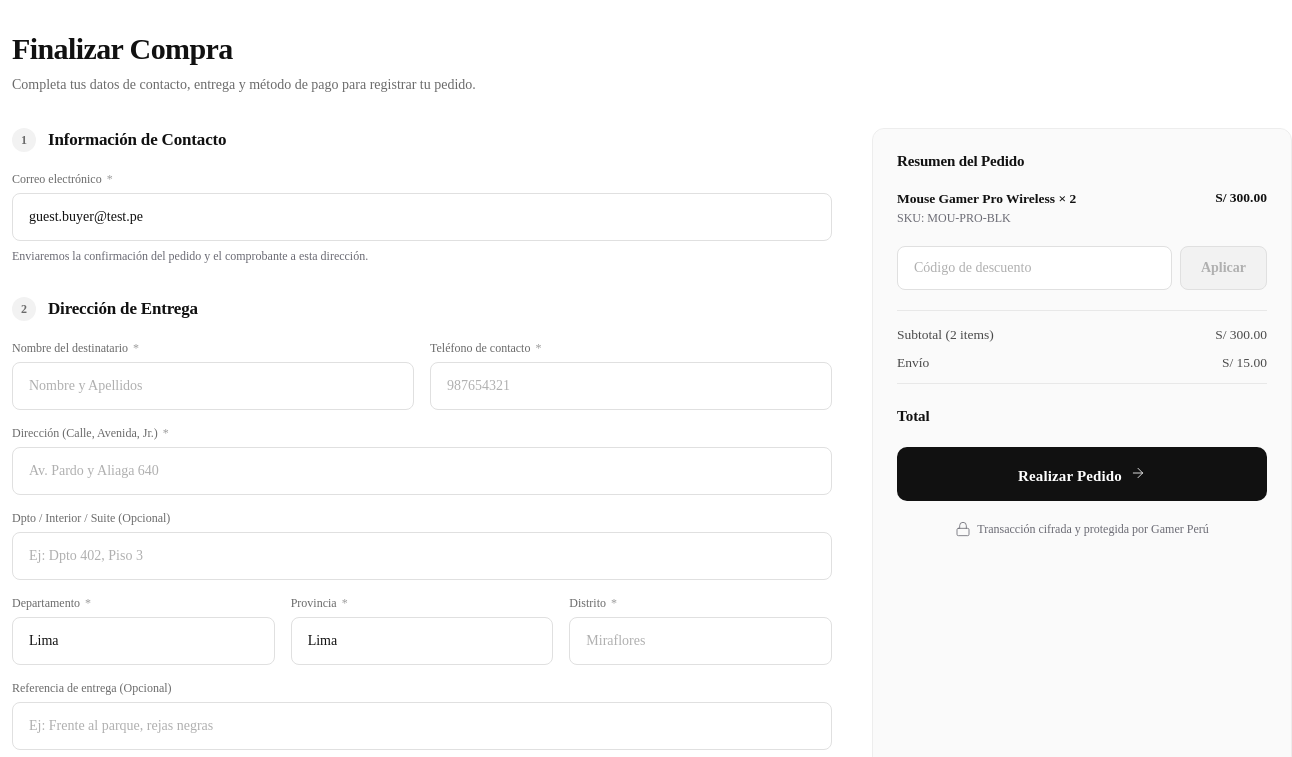
Test case: GP-018 / CHK6-BR3 — Explicit Selection & Fail-Closed Checkout Suite › 9. Idempotency & Address Recoveries › recovers safely from IDEMPOTENCY_EXPIRED by resetting attempt ID without auto-submitting
The width and height of the screenshot is (1292, 757).
Type "Maria Quispe" into the field with test id "checkout-input-recipient-name". click: (213,386)
box: [12,362,414,410]
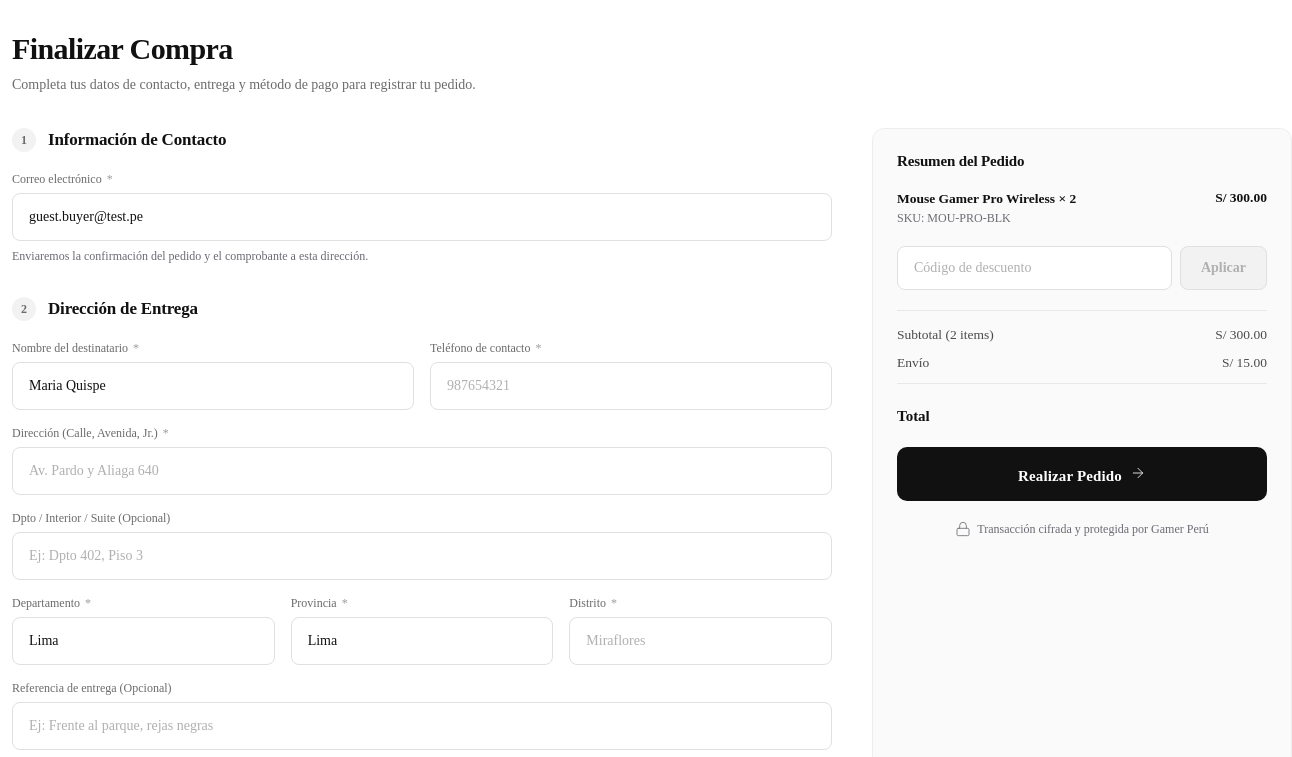
Type "998877665" into the field with test id "checkout-input-phone". click: (631,386)
box: [430,362,832,410]
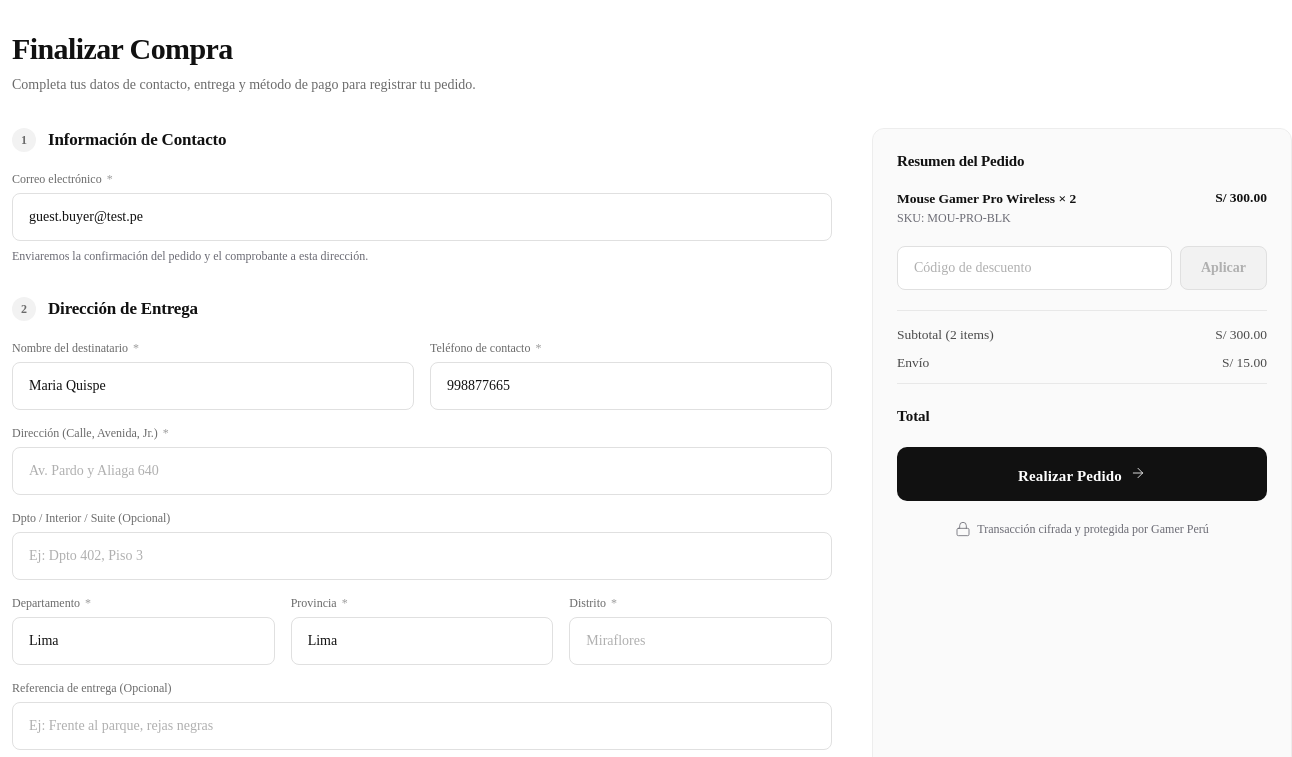
Type "Jr. Union 100" into the field with test id "checkout-input-street-address". click: (422,471)
box: [12,447,832,495]
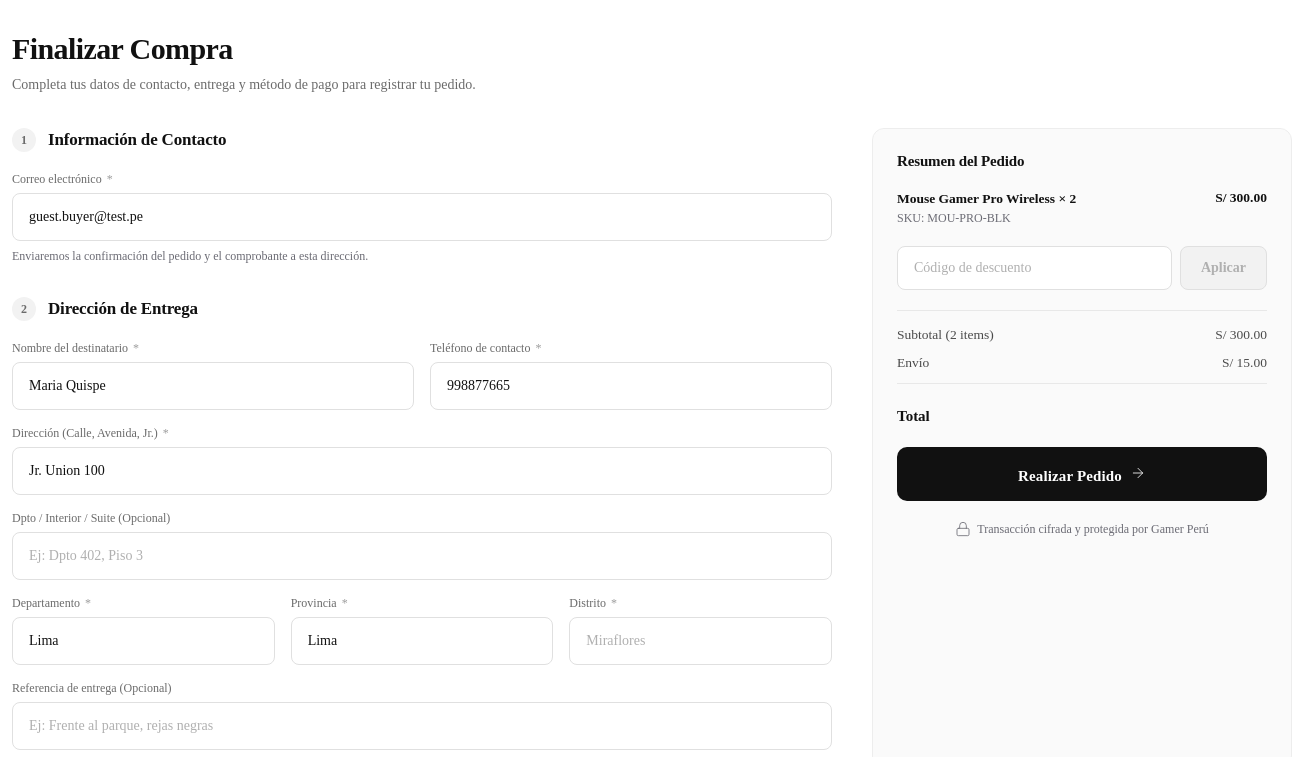
Type "Cercado de Lima" into the field with test id "checkout-input-district". click: (701,641)
box: [569,617,832,665]
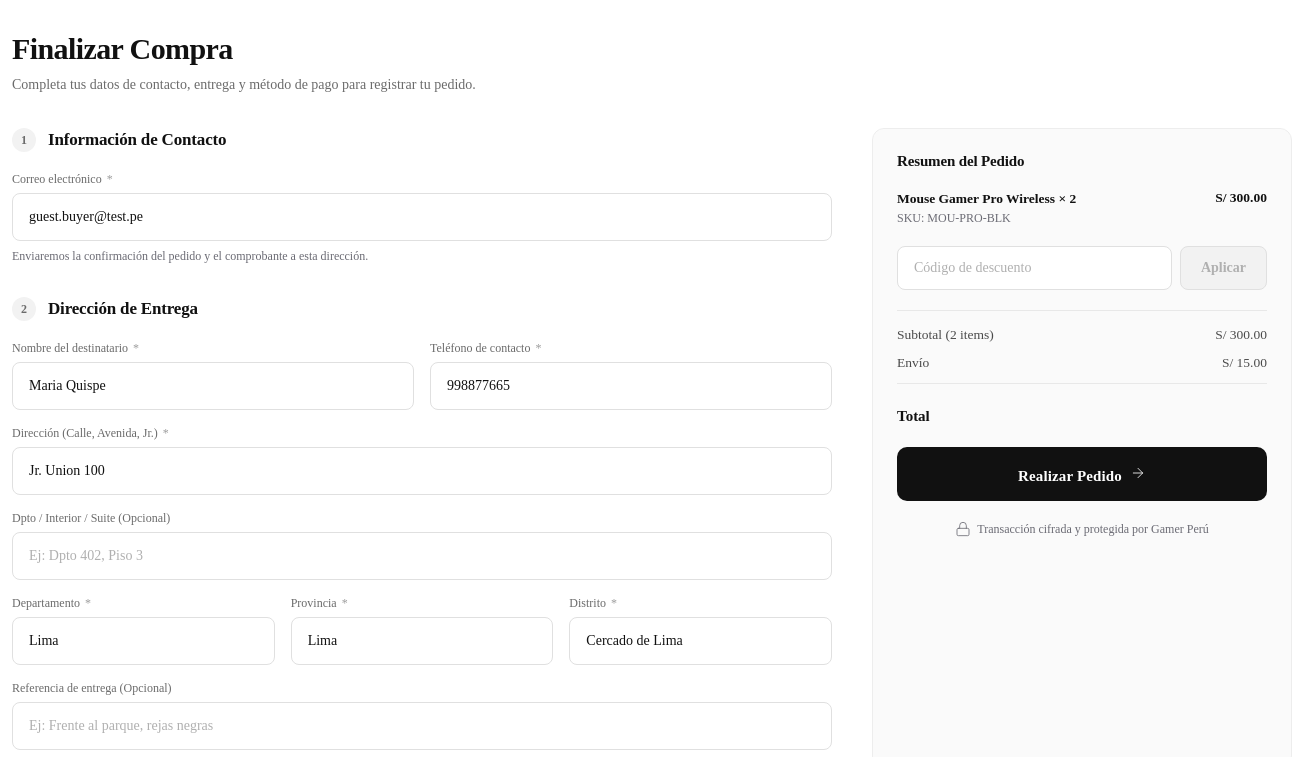
Click the button with test id "checkout-submit-button". click: (1082,474)
box: [897,447,1267,501]
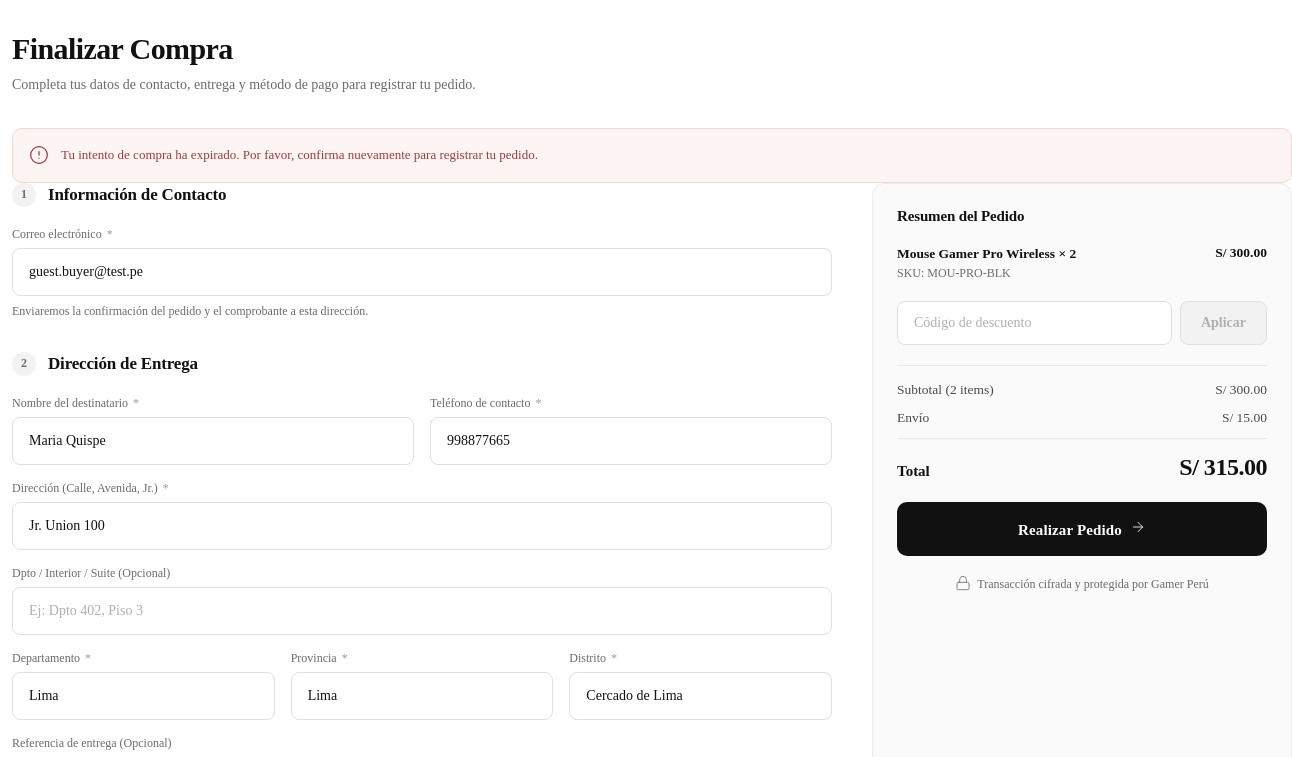
Result: the message with test id "checkout-general-error" is shown at [12,128,1291,182]
Result: the text "Tu intento de compra ha expirado" is shown at [61,147,538,162]
